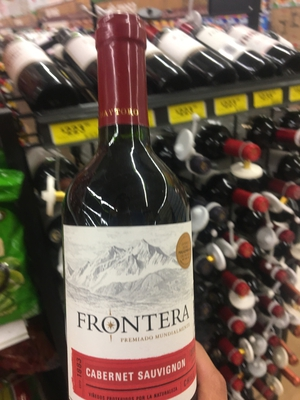frontera cabernet sauvignon: (51, 24, 202, 400)
